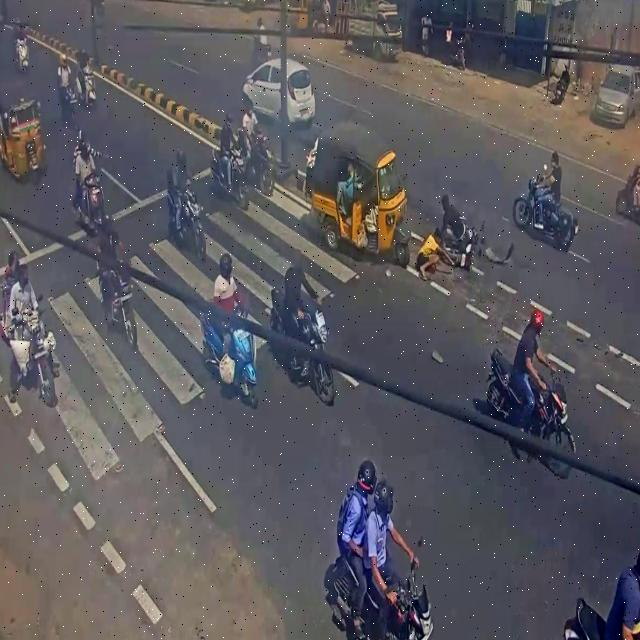accident: (304, 122, 518, 297)
